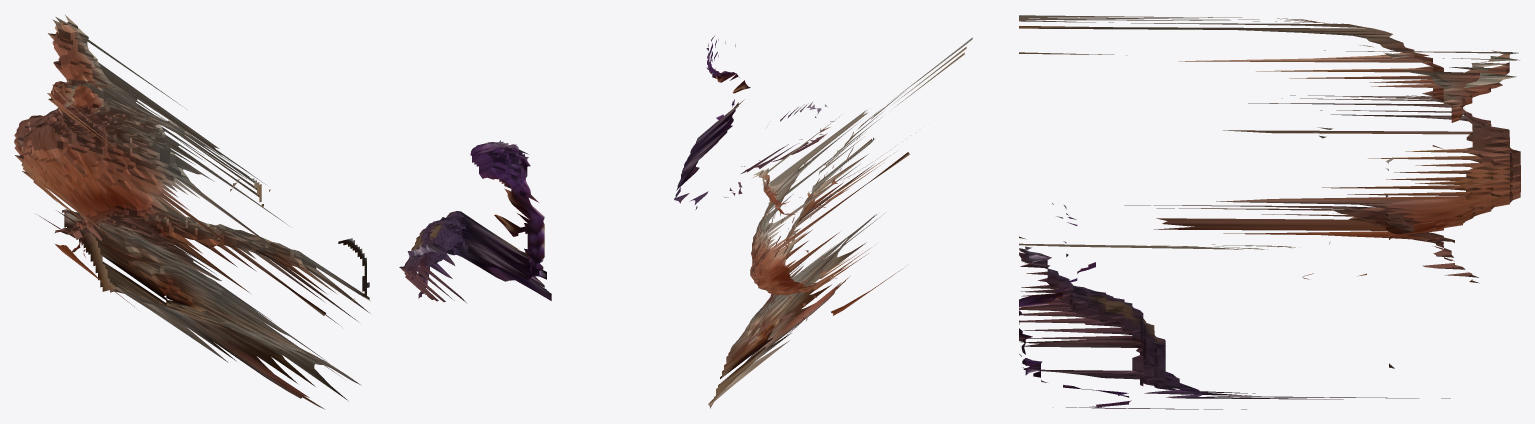
The model's file is frame_00337.glb.
3 views of the same model, side by side, from view 1: azimuth 30°, elevation 25°; view 2: azimuth 150°, elevation 25°; view 3: azimuth 270°, elevation 25° (orthographic). The views are drawn at different scales.
Parts seen in each view (by area): view 1: geometry_0; view 2: geometry_0; view 3: geometry_0.
Boxes of the visible parts, x1=… form: geometry_0: x1=14, y1=15, x2=551, y2=409; geometry_0: x1=674, y1=35, x2=972, y2=408; geometry_0: x1=1019, y1=15, x2=1520, y2=409.
Bounding box in the file's own units: 0.1367 × 0.1184 × 0.16.
1 material, 1 textured.
